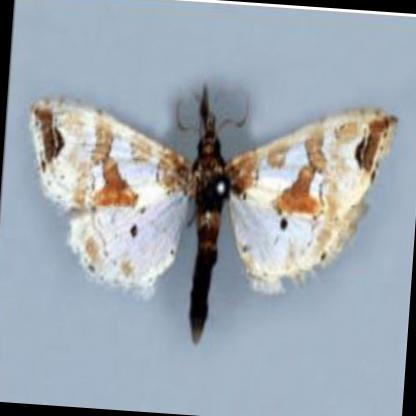leucinodes: (29, 102, 394, 352)
